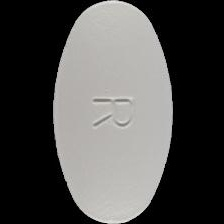67296-0599: (0, 0, 224, 224)
